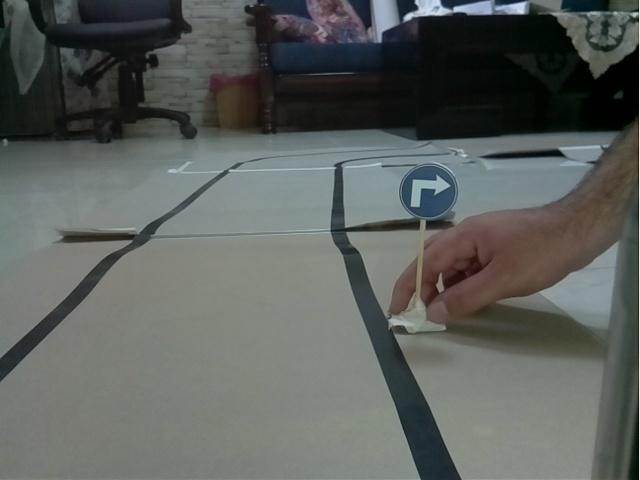turn: (397, 163, 460, 221)
